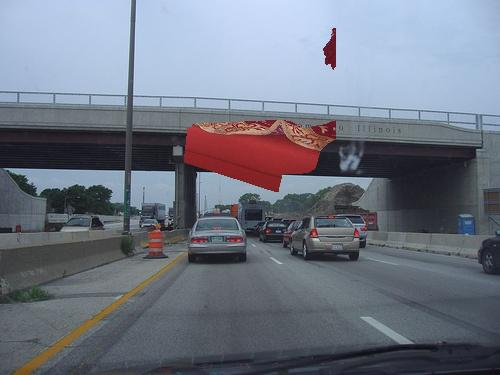tampered: (185, 28, 336, 192)
